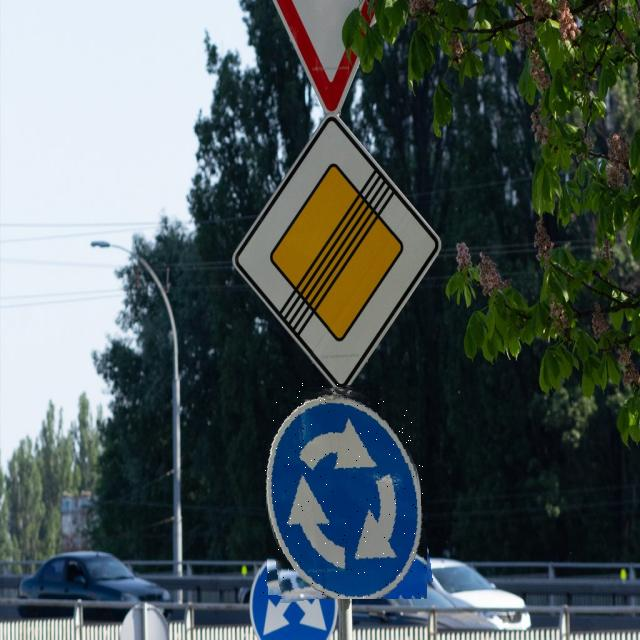roundabout: (259, 382, 427, 599)
